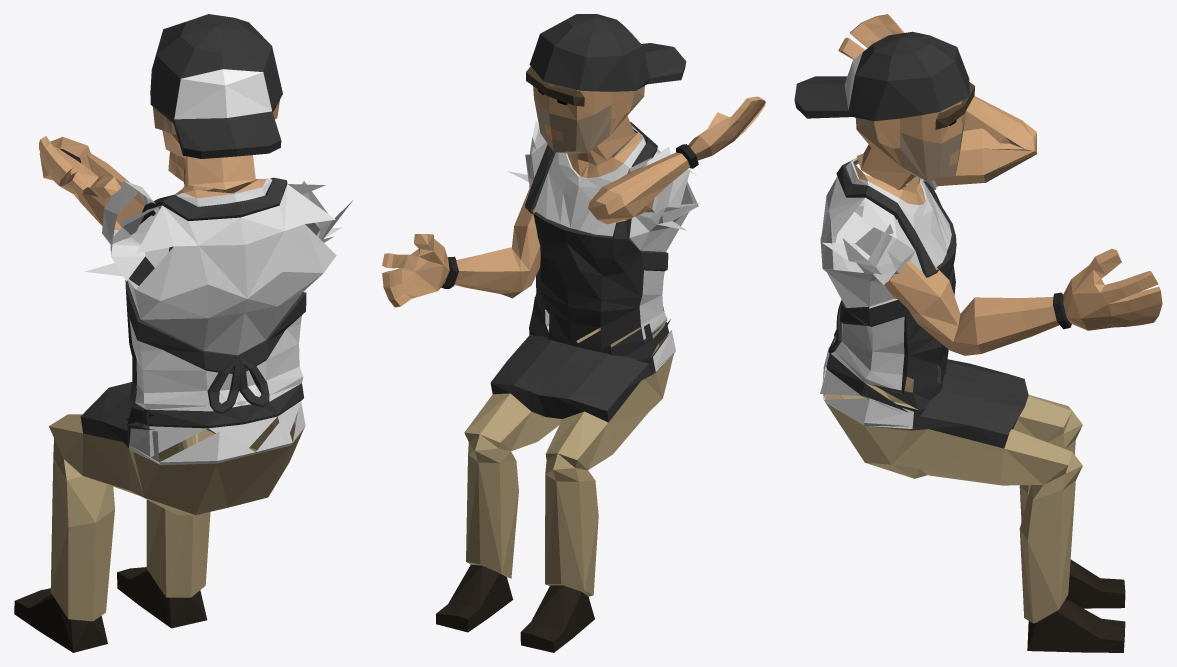
Rendered from Cop_radio.obj.
3 renders of one model, left to right at view 1: azimuth 30°, elevation 25°; view 2: azimuth 150°, elevation 25°; view 3: azimuth 270°, elevation 25°, orthographic. The views are drawn at different scales.
Visible parts, largest first — view 1: Cop_radio; view 2: Cop_radio; view 3: Cop_radio.
Part boxes in pixels (bbox=[...]): Cop_radio: bbox=[14, 14, 352, 652]; Cop_radio: bbox=[382, 14, 765, 652]; Cop_radio: bbox=[794, 14, 1162, 652].
Bounding box in the file's own units: 0.7069 × 1.48 × 0.8432.
1 material, 1 textured.
